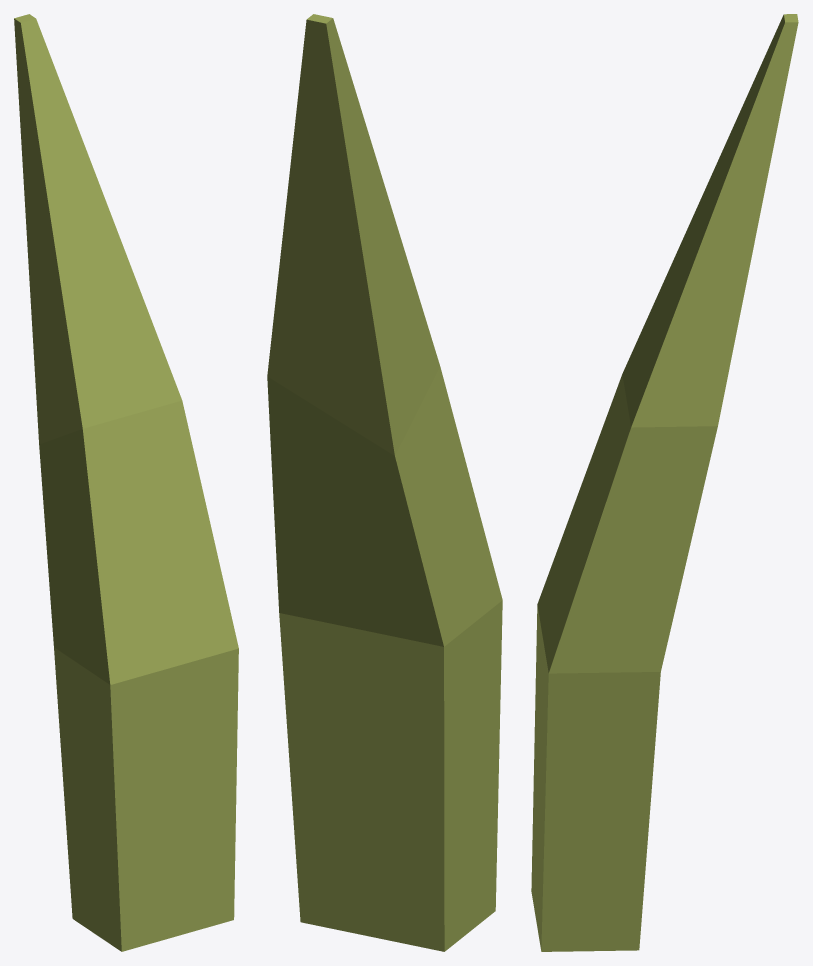
The model's file is GrassSingle.fbx.
The picture shows the model from 3 angles, left to right: view 1: azimuth 30°, elevation 25°; view 2: azimuth 150°, elevation 25°; view 3: azimuth 270°, elevation 25°; orthographic projection. The views are drawn at different scales.
Visible parts, largest first — view 1: Cube.024; view 2: Cube.024; view 3: Cube.024.
Part boxes in pixels (bbox=[...]): Cube.024: bbox=[14, 14, 238, 951]; Cube.024: bbox=[267, 14, 502, 951]; Cube.024: bbox=[531, 14, 798, 951].
Size of the model in its own units: 20.56 by 120 by 32.69.
